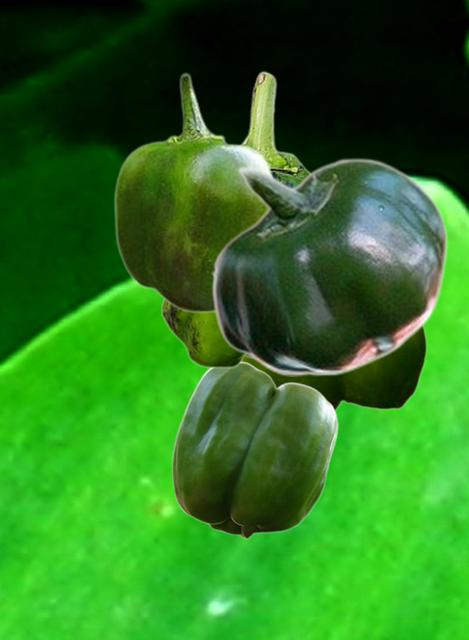bell_pepper: (210, 157, 447, 375), (160, 70, 309, 368), (113, 72, 274, 313), (171, 361, 337, 538), (244, 327, 426, 412)
